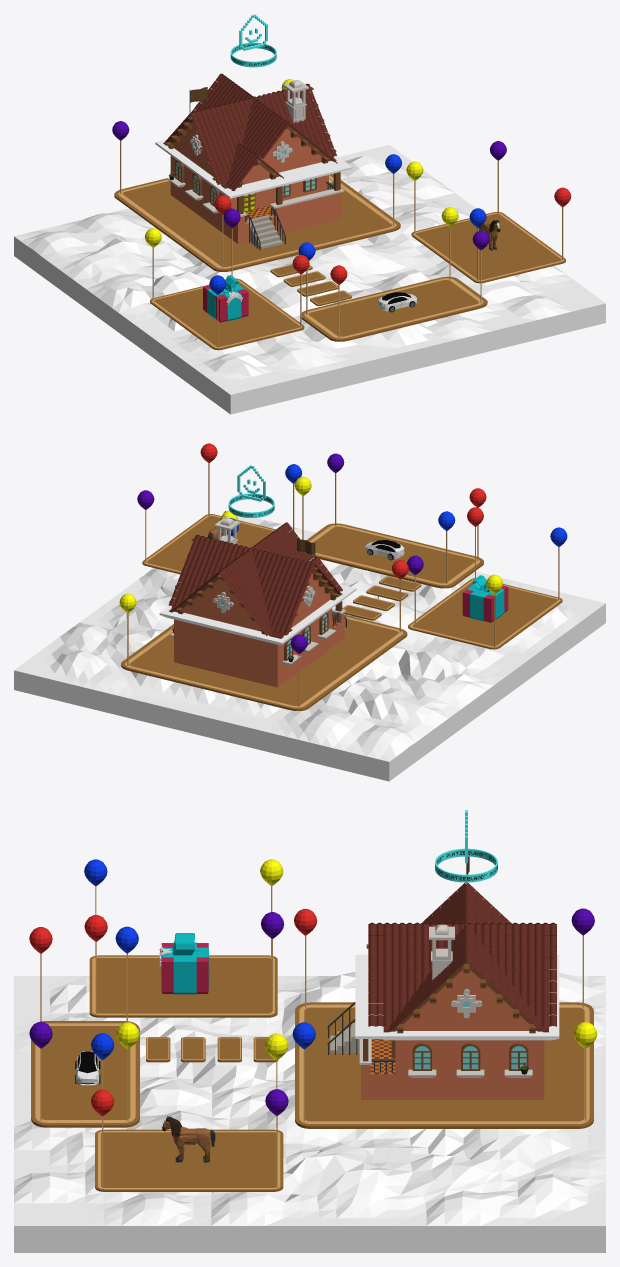
3 renders of one model, top to bottom at view 1: azimuth 30°, elevation 25°; view 2: azimuth 150°, elevation 25°; view 3: azimuth 270°, elevation 25°, orthographic. The views are drawn at different scales.
Parts seen in each view (by area): view 1: Cube.013, Cube.1141, OBJRANDOM_GIANT_PRESENT, TYPE_PREMIUM, VEHICLES_TESLA; view 2: Cube.013, Cube.1141, OBJRANDOM_GIANT_PRESENT, TYPE_PREMIUM, VEHICLES_TESLA; view 3: Cube.013, Cube.1141, OBJRANDOM_GIANT_PRESENT, TYPE_PREMIUM, ANIMAL_CABALLO, VEHICLES_TESLA.
Boxes of the visible parts, box(x1,y1,x2,y2) form: Cube.013: box(14, 79, 605, 414); Cube.1141: box(155, 73, 352, 250); OBJRANDOM_GIANT_PRESENT: box(203, 275, 248, 322); TYPE_PREMIUM: box(230, 14, 276, 67); VEHICLES_TESLA: box(378, 292, 417, 312); Cube.013: box(14, 443, 605, 781); Cube.1141: box(159, 517, 356, 687); OBJRANDOM_GIANT_PRESENT: box(462, 575, 508, 622); TYPE_PREMIUM: box(228, 465, 274, 517); VEHICLES_TESLA: box(365, 540, 404, 560); Cube.013: box(14, 859, 605, 1252); Cube.1141: box(327, 856, 559, 1099); OBJRANDOM_GIANT_PRESENT: box(159, 933, 209, 994); TYPE_PREMIUM: box(435, 810, 497, 882); ANIMAL_CABALLO: box(162, 1116, 215, 1162); VEHICLES_TESLA: box(75, 1051, 100, 1085).
Bounding box in the file's own units: 4000 × 2443 × 4000.
42 materials, 2 textured.
